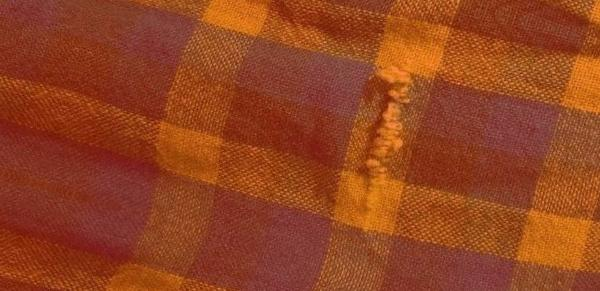knot: (365, 66, 412, 187)
